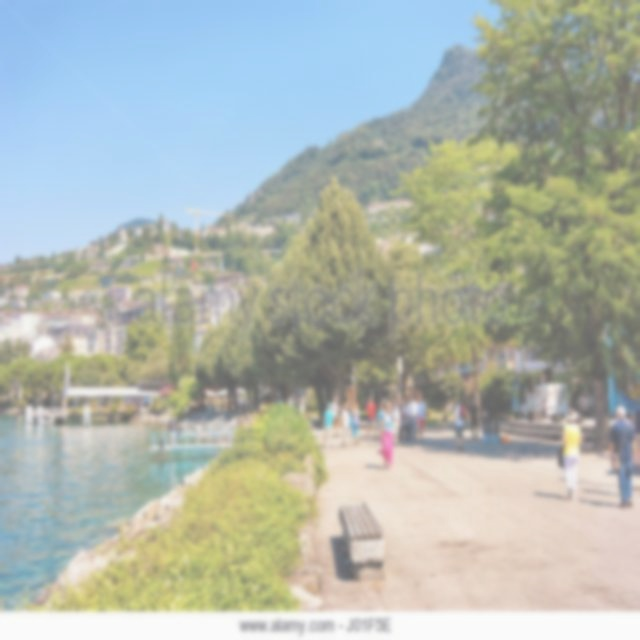pessoa: (607, 404, 639, 508), (556, 405, 583, 501), (378, 399, 399, 472), (405, 392, 419, 450), (321, 400, 336, 450), (453, 398, 467, 451), (373, 396, 386, 452), (329, 392, 344, 440), (467, 397, 480, 442), (364, 395, 377, 440), (416, 396, 428, 442), (340, 402, 351, 448), (350, 402, 361, 447), (391, 399, 401, 446), (400, 400, 410, 440), (167, 415, 181, 440), (519, 390, 528, 422), (303, 405, 311, 431), (274, 389, 282, 411), (395, 394, 403, 414), (402, 399, 411, 416), (219, 394, 225, 416), (295, 397, 301, 415), (287, 392, 294, 407), (207, 394, 212, 411)
